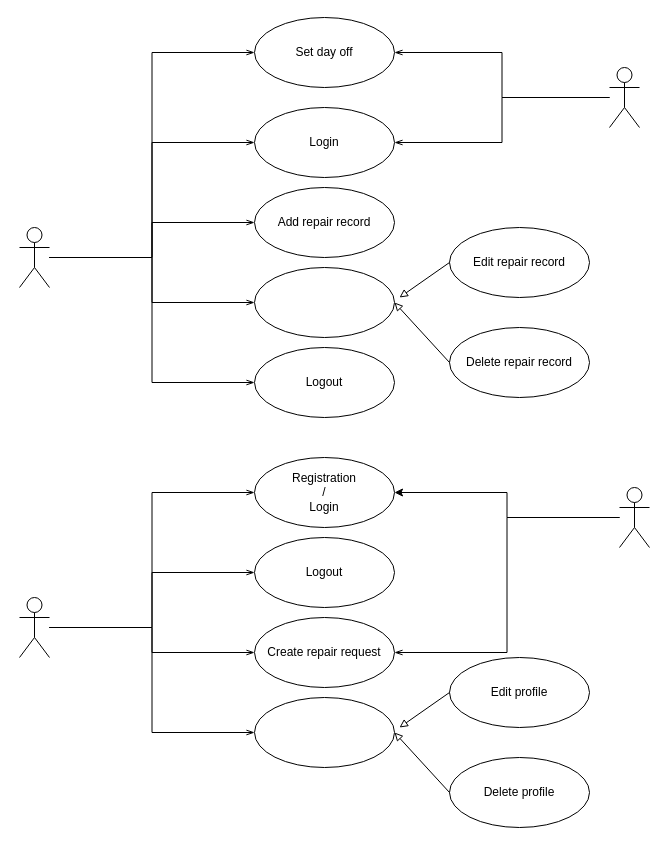
Some shapes in this 667 by 845 pixel diagram are drawn without their labels. The box of each missing label's shape, as (x1, y1, x2, y2) in pixels:
Admin: (18, 226, 50, 288)
Guest: (618, 486, 650, 548)
Manage profile: (254, 696, 394, 768)
Manage repair record: (254, 266, 394, 338)
Master: (608, 66, 640, 128)
User: (18, 596, 50, 658)
